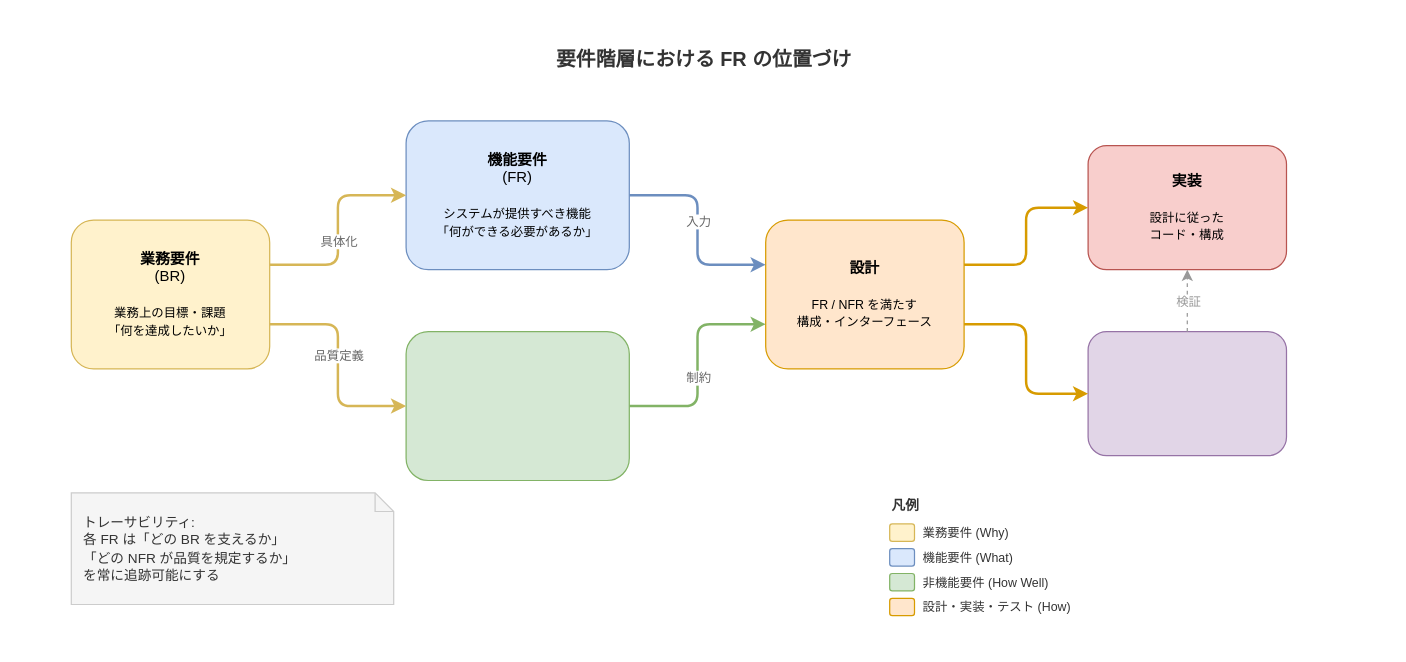
The diagram is 1406 pixels wide and 662 high, and some of its shapes have lost their labels. The centre of each missing label's shape, as x and y in pixels:
"テスト FR / NFR の 受け入れ基準を検証" goes at pixel 1186 393.
"非機能要件 (NFR) 品質・性能・セキュリティ 「どの水準で動くべきか」" goes at pixel 517 405.
